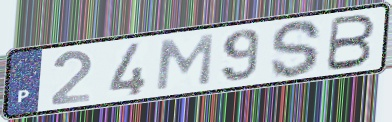2: (48, 48, 95, 107)
4: (106, 40, 149, 97)
9: (219, 27, 262, 84)
B: (323, 13, 378, 74)
M: (153, 31, 217, 92)
S: (269, 18, 325, 80)
